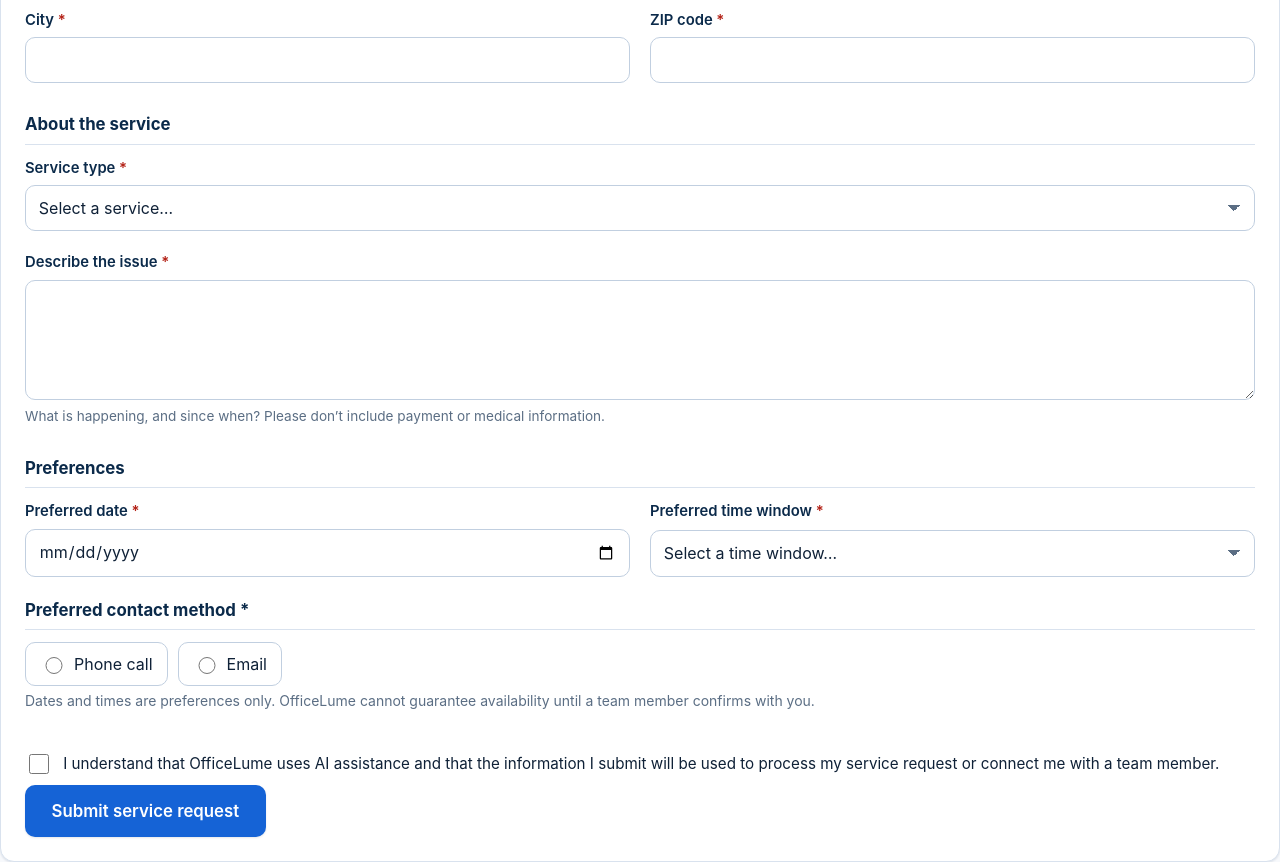
Test: ServiceRequestForm › blocks submission and shows field errors when required fields are empty
(page scrolled)
Click the button "Submit service request".
click(145, 811)  # box [25,785,266,837]
(page scrolled)
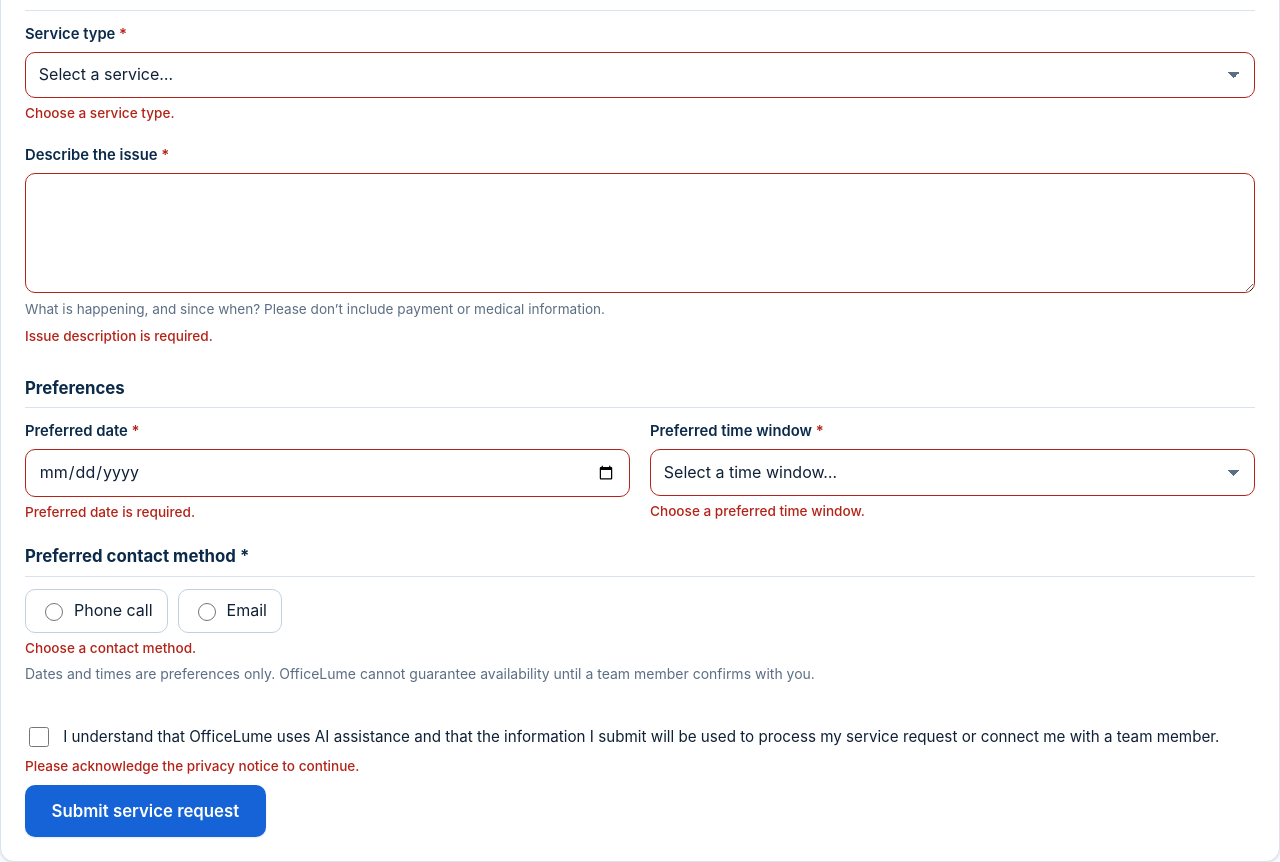
Expected: the text "Please acknowledge the privacy notice to continue." is shown, [25,758,359,774]
